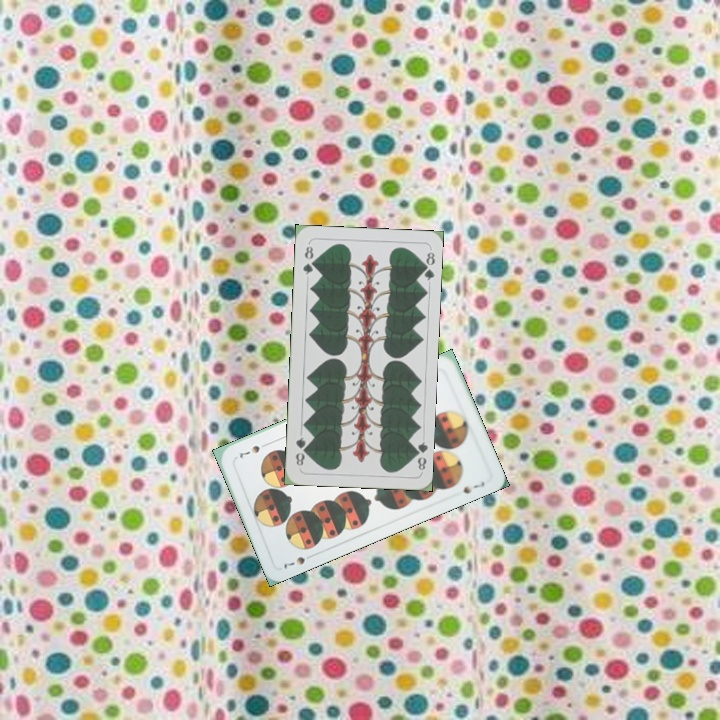G8: (409, 438, 429, 472), (299, 242, 317, 277)
S7: (279, 550, 317, 572)
